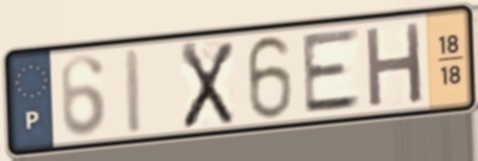6: (57, 51, 110, 140), (245, 31, 296, 123)
E: (299, 25, 364, 117)
H: (362, 18, 426, 111)
I: (122, 45, 146, 138)
X: (178, 39, 236, 132)
